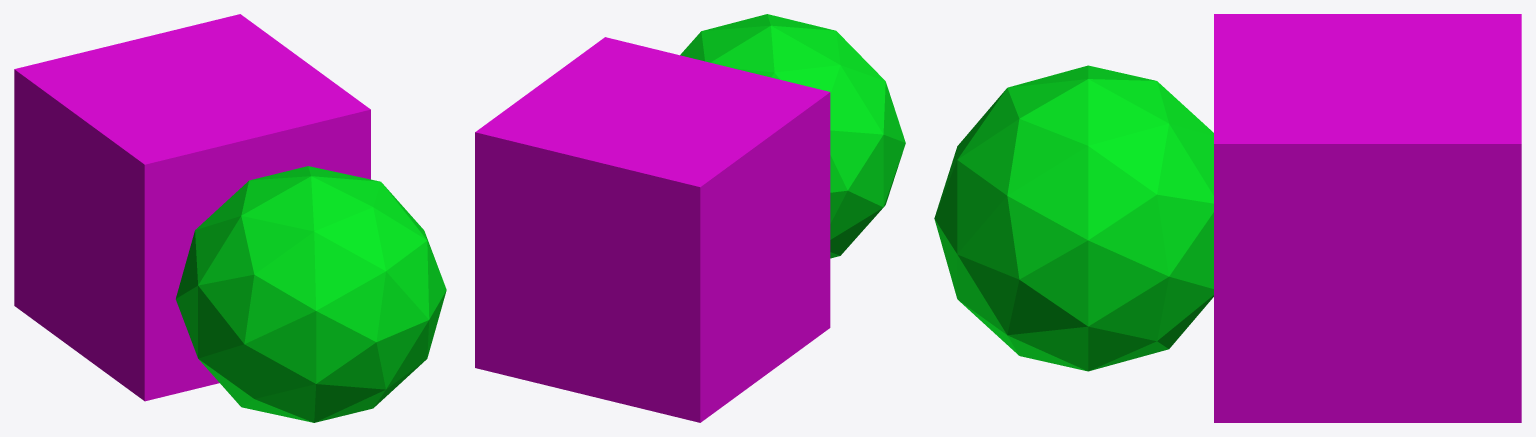
Rendered from asset.glb.
The picture shows the model from 3 angles, left to right: view 1: azimuth 30°, elevation 25°; view 2: azimuth 150°, elevation 25°; view 3: azimuth 270°, elevation 25°; orthographic projection. The views are drawn at different scales.
Parts seen in each view (by area): view 1: Cube, Icosphere; view 2: Cube, Icosphere; view 3: Cube, Icosphere.
Boxes of the visible parts, x1,y1,x2,y2 form: Cube: (14,14,370,401); Icosphere: (175,166,446,422); Cube: (475,37,830,422); Icosphere: (680,14,905,258); Cube: (1214,14,1521,422); Icosphere: (934,65,1213,371).
Bounding box in the file's own units: 2 × 2 × 3.82.
